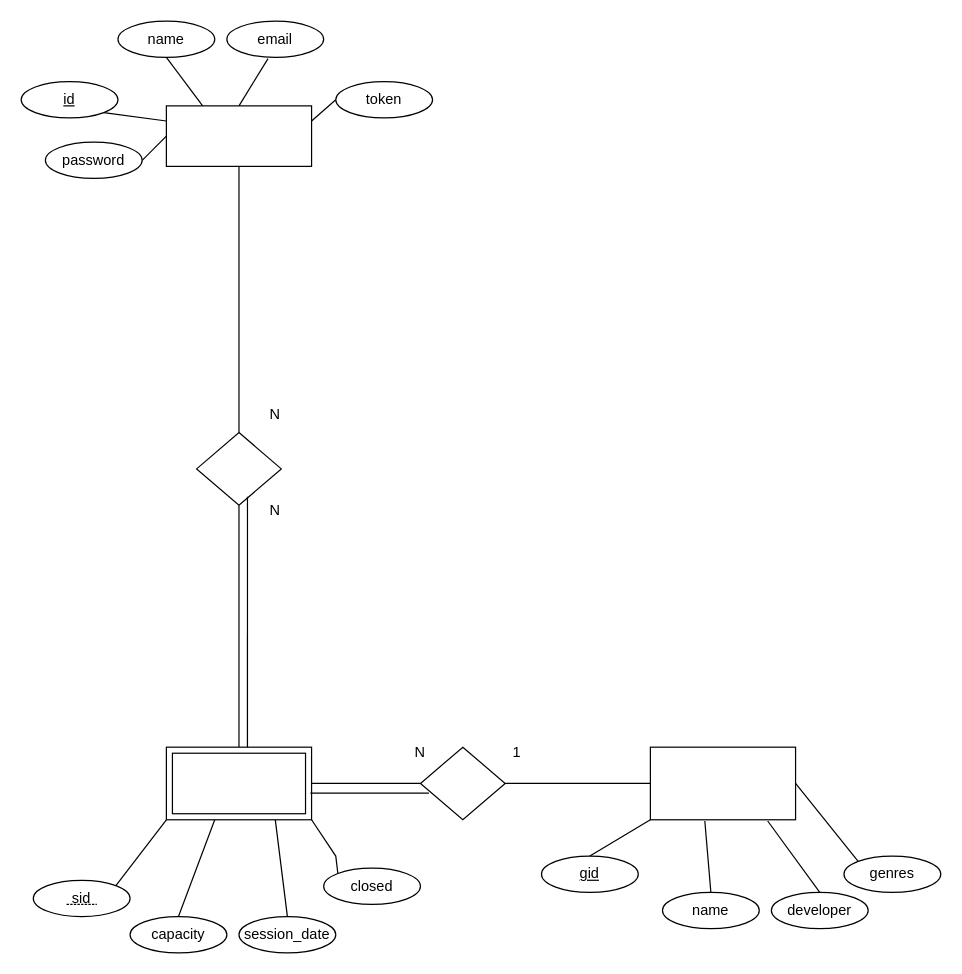
The diagram is 962 pixels wide and 974 high, and some of its shapes have lost their labels. The centre of each missing label's shape, as x and y in pixels:
Game: point 722,783
Player: point 238,135
Session: point 238,783
